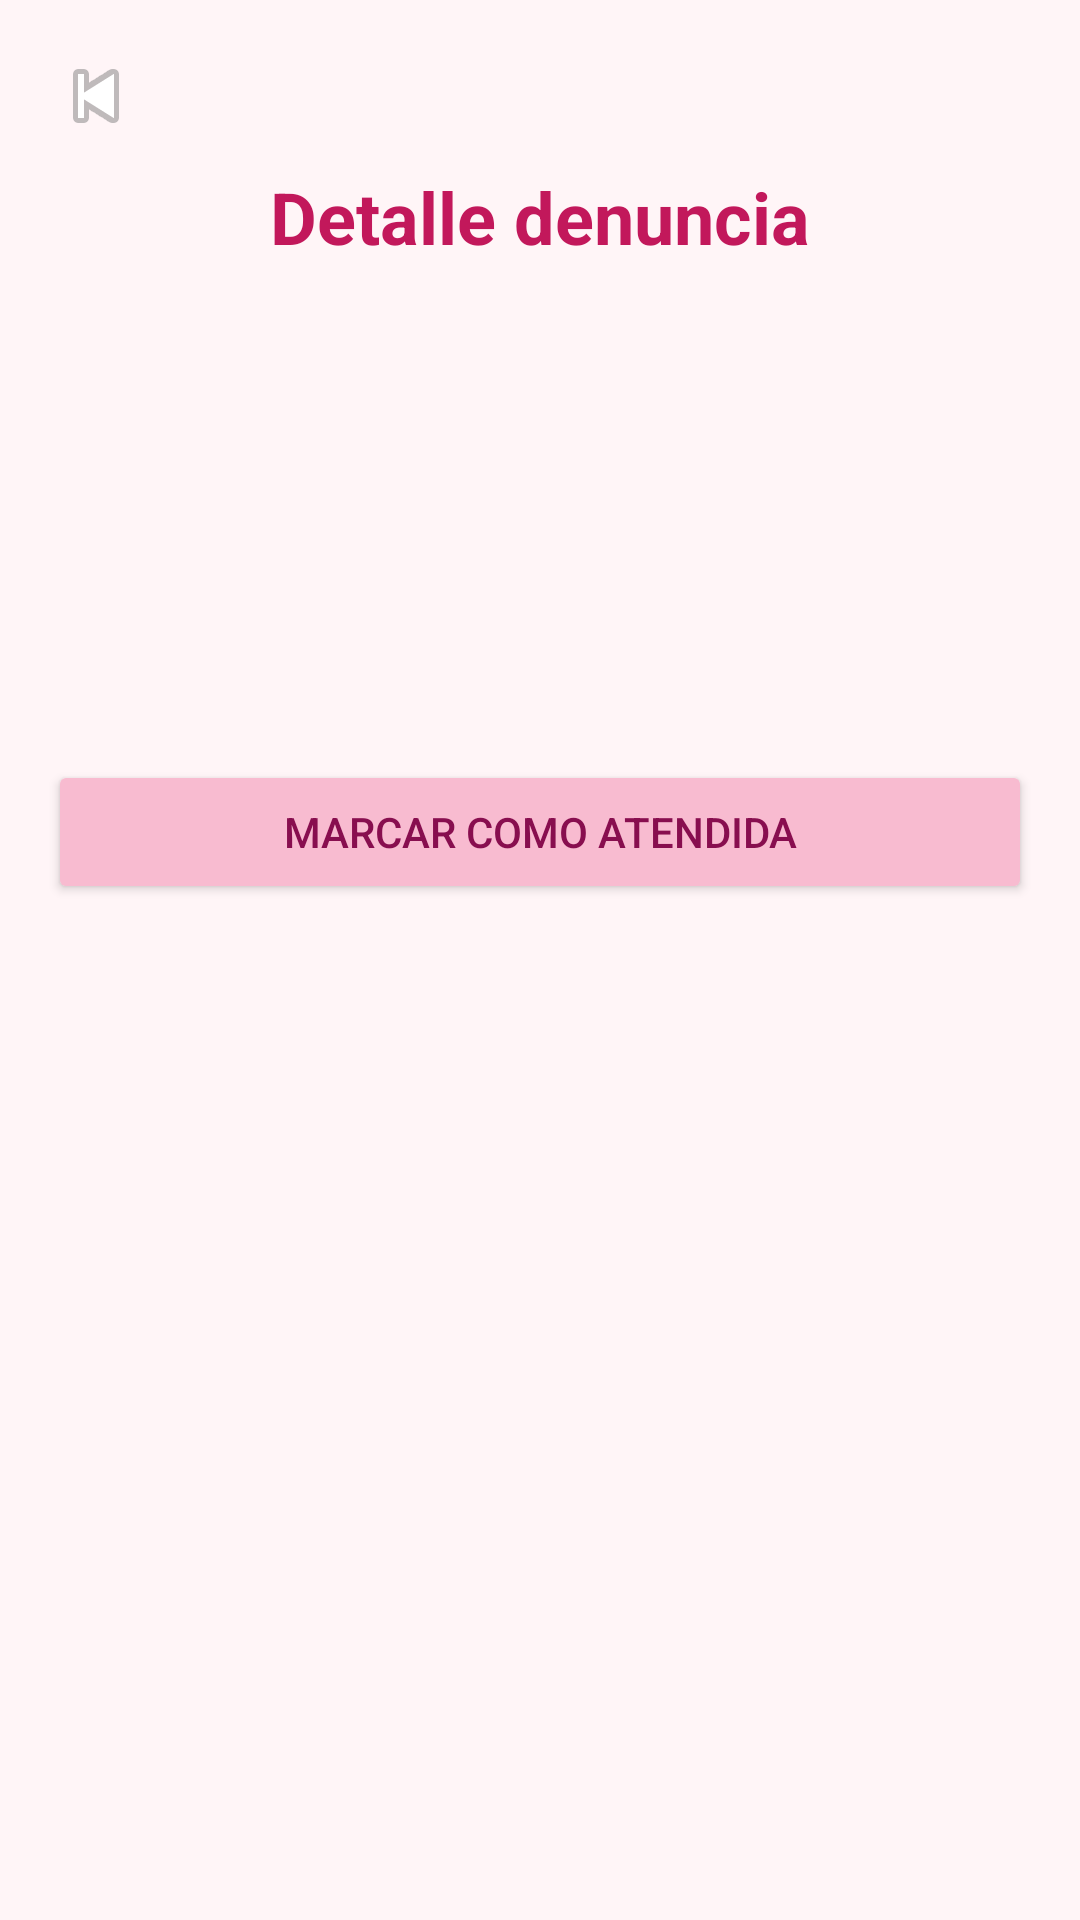

Point at icon controls on the screen. Image size 1080 × 1920, points as point (x, y).
Volver: point (96, 96)
